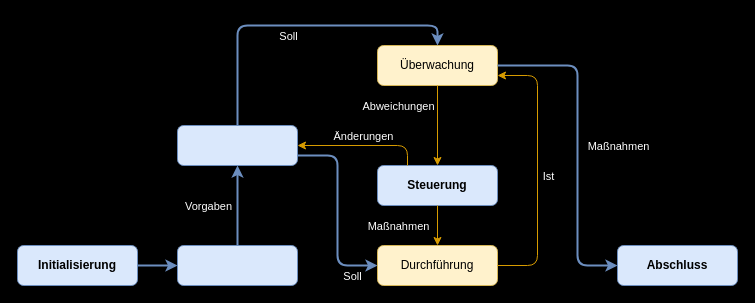
Some shapes in this 755 by 303 pixel diagram are drawn without their labels. The shapes that lost their labels are listed below. From the top down, each one's centre as x and y in pixels, then its label:
At [237,145]: "Planung".
At [237,265]: "Definition".
